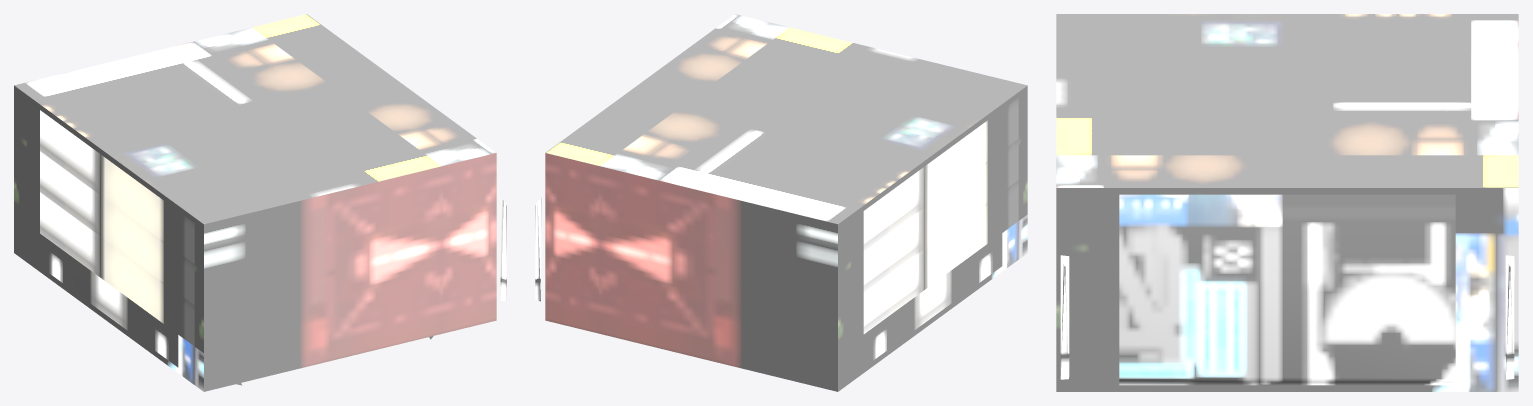
File: SM_H_Government_Tide_ServerParts_01_ATLAS.fbx
3 renders of one model, left to right at view 1: azimuth 30°, elevation 25°; view 2: azimuth 150°, elevation 25°; view 3: azimuth 270°, elevation 25°, orthographic. The views are drawn at different scales.
Parts seen in each view (by area): view 1: SM_H_Government_Tide_ServerParts_01_ATLAS_LOD0; view 2: SM_H_Government_Tide_ServerParts_01_ATLAS_LOD0; view 3: SM_H_Government_Tide_ServerParts_01_ATLAS_LOD0.
Boxes of the visible parts, x1,y1,x2,y2 form: SM_H_Government_Tide_ServerParts_01_ATLAS_LOD0: (14,14,506,391); SM_H_Government_Tide_ServerParts_01_ATLAS_LOD0: (535,14,1027,391); SM_H_Government_Tide_ServerParts_01_ATLAS_LOD0: (1056,14,1518,391).
Bounding box in the file's own units: 39.56 × 42.08 × 22.48.
